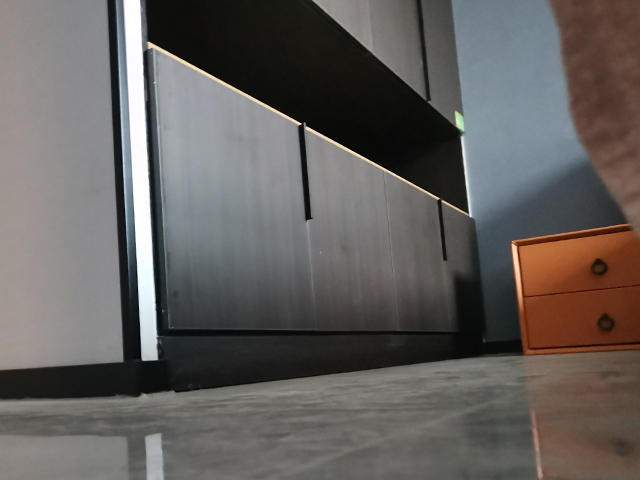cabinet: (136, 40, 496, 385), (508, 220, 640, 357)
